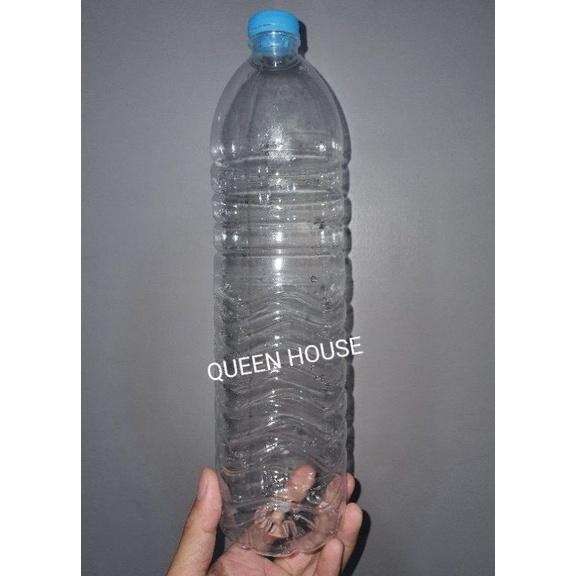plastic: (208, 18, 362, 558)
